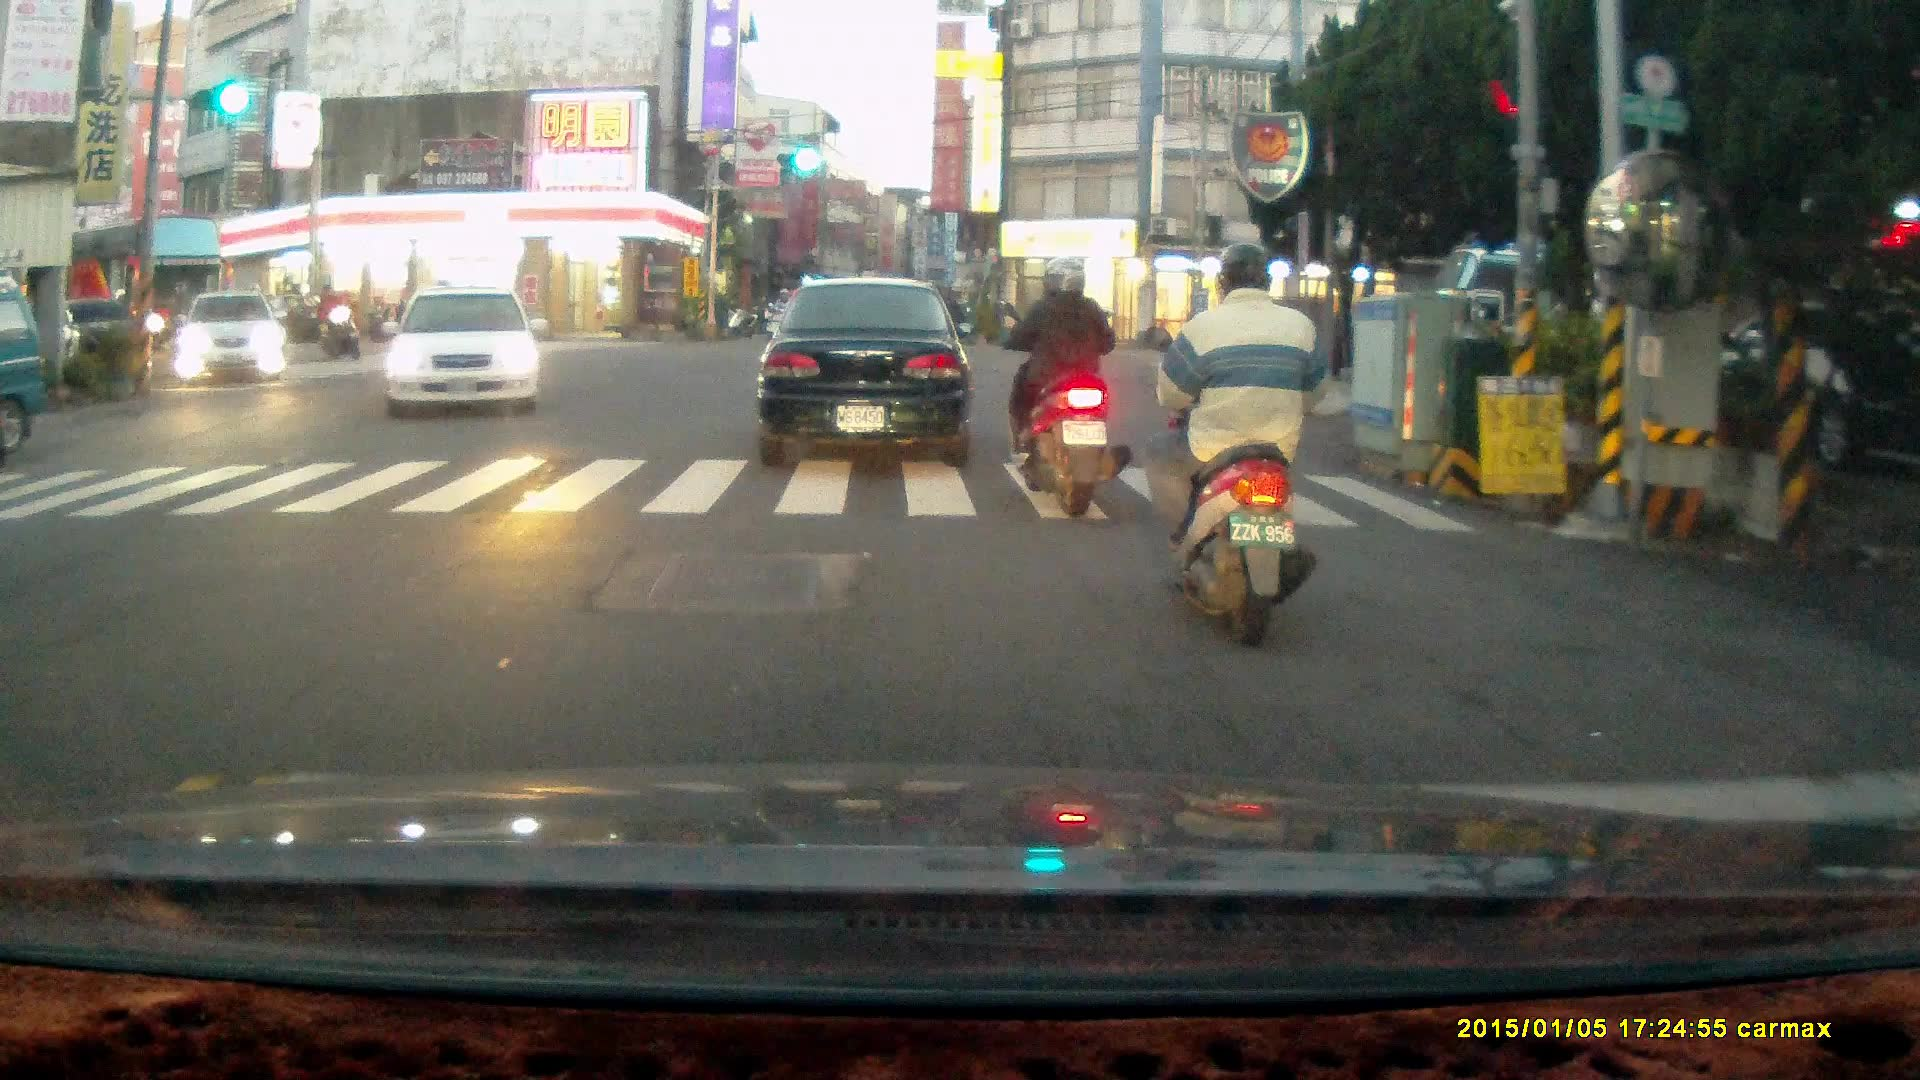rider: (1142, 243, 1323, 645), (993, 256, 1129, 520), (309, 280, 361, 361)
vehicle: (1637, 295, 1920, 478), (759, 274, 974, 471), (33, 212, 233, 354), (383, 288, 543, 417), (179, 290, 292, 390), (1, 285, 54, 460)
